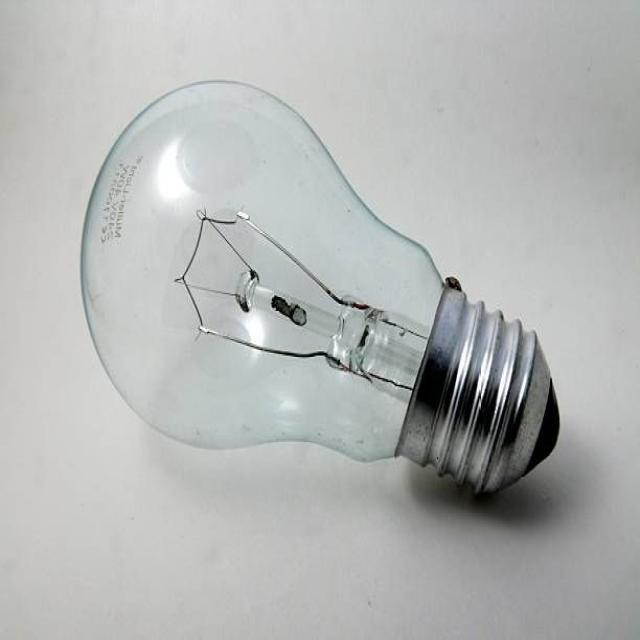electronic: (78, 76, 560, 498)
